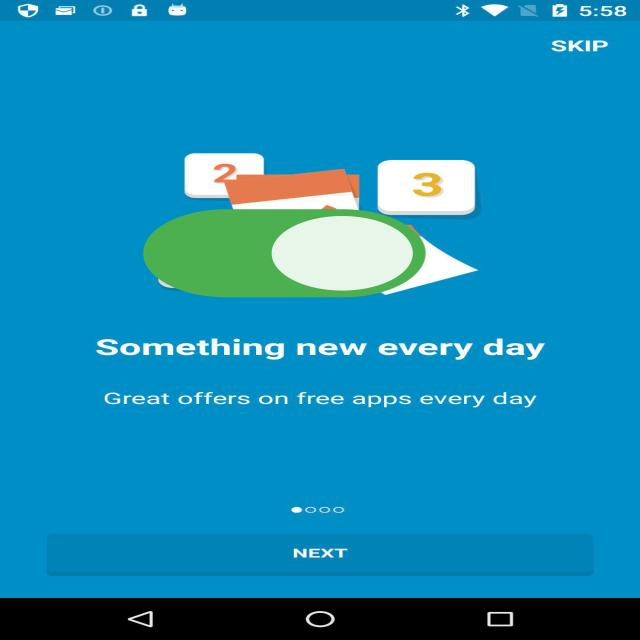social proof: (130, 175, 438, 338)
